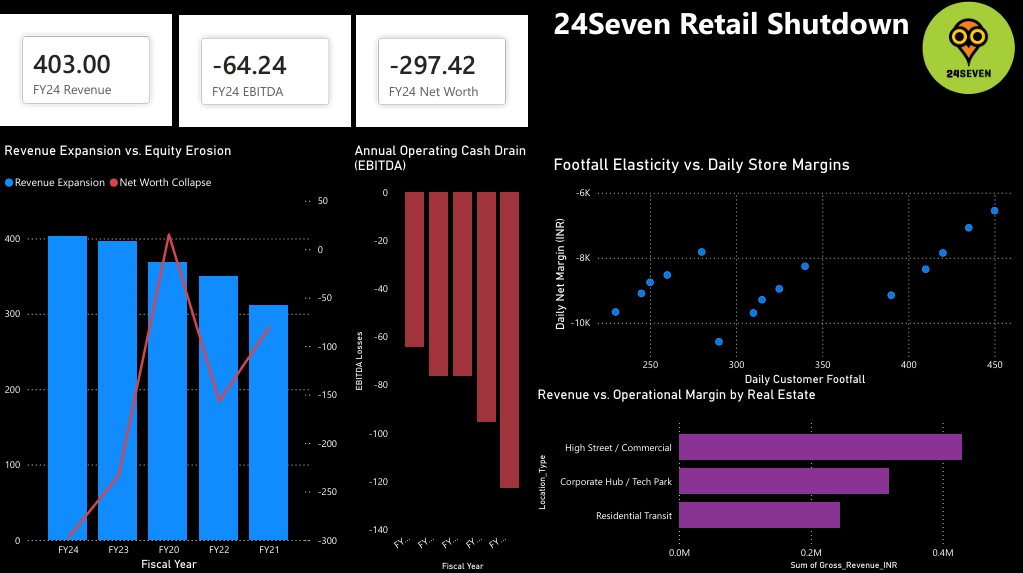

The dashboard page shown, as its layout file describes it:
{"tool":"powerbi","page":{"name":"Page 1","canvas":[1280,720],"ordinal":0},"visuals":[{"type":"textbox","box":[687.3,0,494.5,69.1],"z":0},{"type":"cardVisual","fields":{"Data":["Sum(Table3.Segment_Revenue_Cr)"]},"box":[0,20,215,139.4],"z":1000},{"type":"cardVisual","fields":{"Data":["Sum(Table3.Segment_EBITDA_Cr)"]},"box":[223.6,21.8,215,139.4],"z":2000},{"type":"cardVisual","fields":{"Data":["Sum(Table3.Net_Worth_Cr)"]},"box":[445.5,21.8,215,139.4],"z":3000},{"type":"lineStackedColumnComboChart","title":"Revenue Expansion vs. Equity Erosion","fields":{"Category":["Table3.Fiscal_Year"],"Y":["Sum(Table3.Segment_Revenue_Cr)"],"Y2":["Sum(Table3.Net_Worth_Cr)"]},"box":[0,180,427.3,540],"z":4000},{"type":"clusteredColumnChart","title":"Annual Operating Cash Drain (EBITDA)","fields":{"Category":["Table3.Fiscal_Year"],"Y":["Sum(Table3.Segment_EBITDA_Cr)"]},"box":[438.2,180,229.1,540],"z":5000},{"type":"clusteredBarChart","title":"Revenue vs. Operational Margin by Real Estate","fields":{"Category":["Table2.Location_Type"],"Y":["Sum(Table1.Gross_Revenue_INR)"]},"box":[667.3,485.5,613.1,233.5],"z":6000},{"type":"scatterChart","title":"Footfall Elasticity vs. Daily Store Margins","fields":{"Y":["Table1.Store_Net_Margin"],"X":["Table1.Daily_Footfall"]},"box":[687.3,194.5,593,294],"z":7000},{"type":"image","box":[1141.8,0,138.2,123.6],"z":8000}]}

Visuals, with their boxes in screenshot pixels (x1, y1, x2, y2), scaled from the page's 1280x720 canvas onto the 1023x573 screenshot:
textbox: crop(549, 0, 945, 55)
cardVisual - Sum(Table3.Segment_Revenue_Cr): crop(0, 16, 172, 127)
cardVisual - Sum(Table3.Segment_EBITDA_Cr): crop(179, 17, 351, 128)
cardVisual - Sum(Table3.Net_Worth_Cr): crop(356, 17, 528, 128)
"Revenue Expansion vs. Equity Erosion" lineStackedColumnComboChart: crop(0, 143, 342, 572)
"Annual Operating Cash Drain (EBITDA)" clusteredColumnChart: crop(350, 143, 533, 572)
"Revenue vs. Operational Margin by Real Estate" clusteredBarChart: crop(533, 386, 1022, 572)
"Footfall Elasticity vs. Daily Store Margins" scatterChart: crop(549, 155, 1022, 389)
image: crop(913, 0, 1022, 98)
